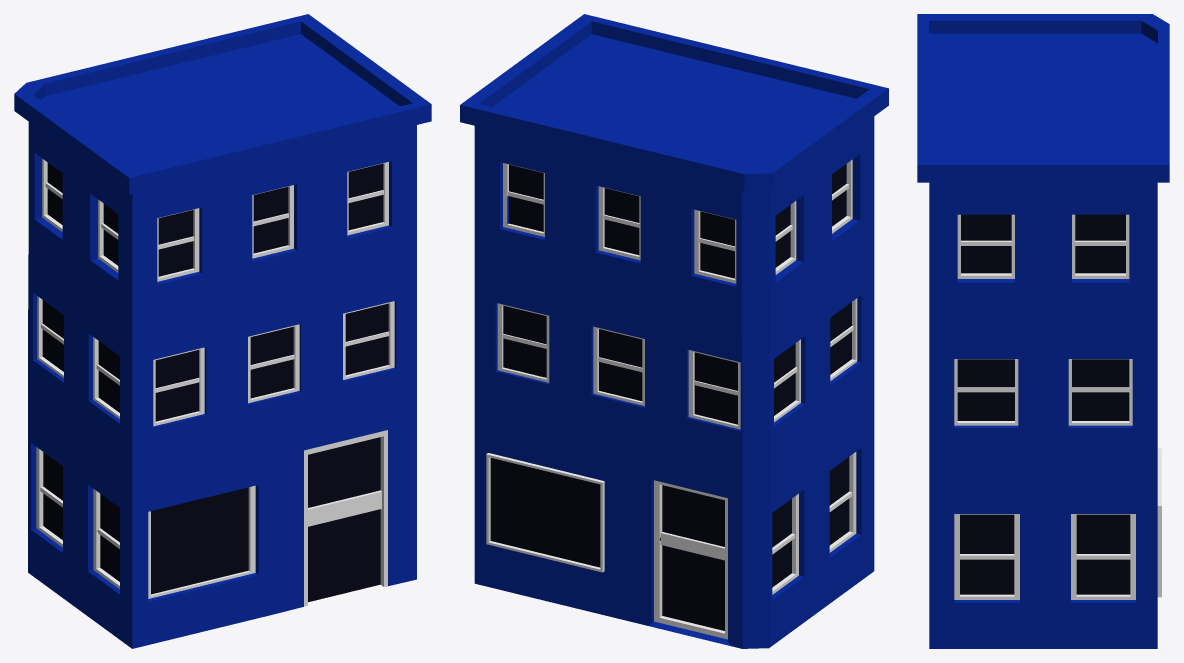
The model's file is HouseN0.0.0.fbx.
3 renders of one model, left to right at view 1: azimuth 30°, elevation 25°; view 2: azimuth 150°, elevation 25°; view 3: azimuth 270°, elevation 25°, orthographic. The views are drawn at different scales.
Visible parts, largest first — view 1: Plane.146; view 2: Plane.146; view 3: Plane.146.
Boxes of the visible parts, x1,y1,x2,y2 form: Plane.146: (14,14,431,648); Plane.146: (460,14,888,648); Plane.146: (917,14,1169,648).
Bounding box in the file's own units: 752 × 1135 × 531.
